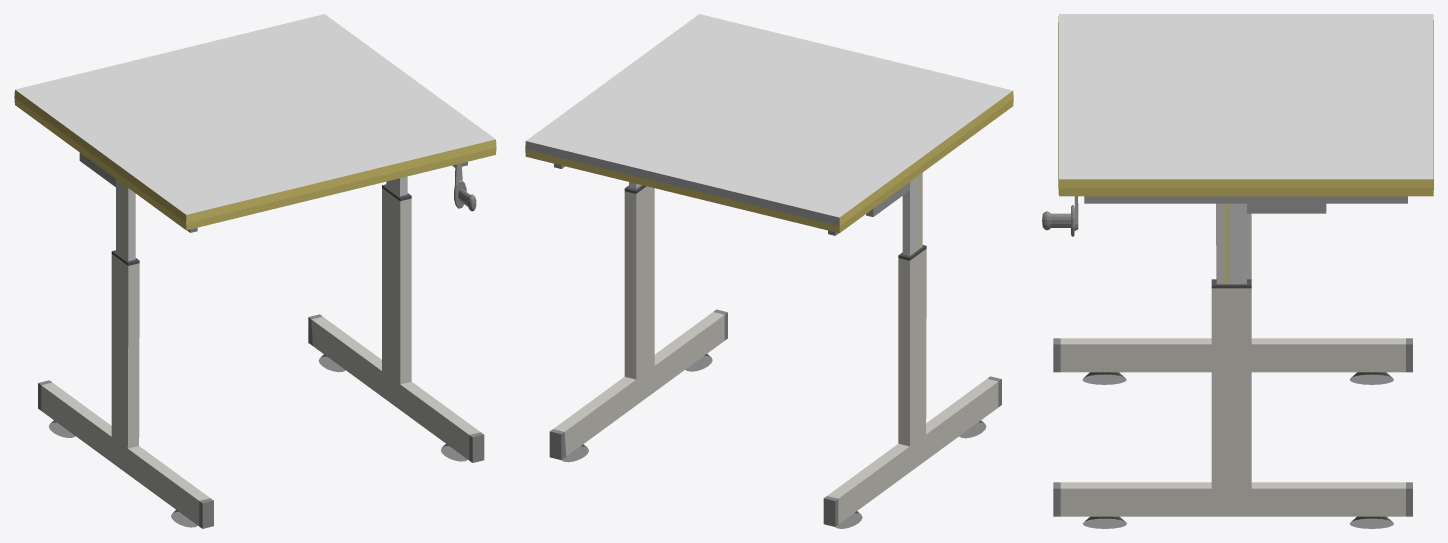
The model's file is sh-bs0-technical-table1.glb.
3 views of the same model, side by side, from view 1: azimuth 30°, elevation 25°; view 2: azimuth 150°, elevation 25°; view 3: azimuth 270°, elevation 25° (orthographic). The views are drawn at different scales.
Visible parts, largest first — view 1: Bordd1.001_Plane; view 2: Bordd1.001_Plane; view 3: Bordd1.001_Plane.
Boxes of the visible parts, x1,y1,x2,y2 form: Bordd1.001_Plane: [14, 14, 496, 528]; Bordd1.001_Plane: [525, 14, 1013, 528]; Bordd1.001_Plane: [1042, 14, 1433, 528].
Bounding box in the file's own units: 1 × 1 × 1.
